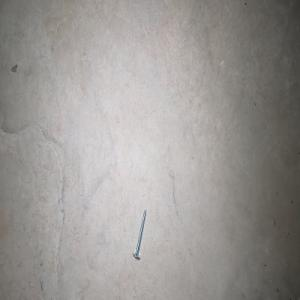Bolt: (132, 208, 146, 259)
